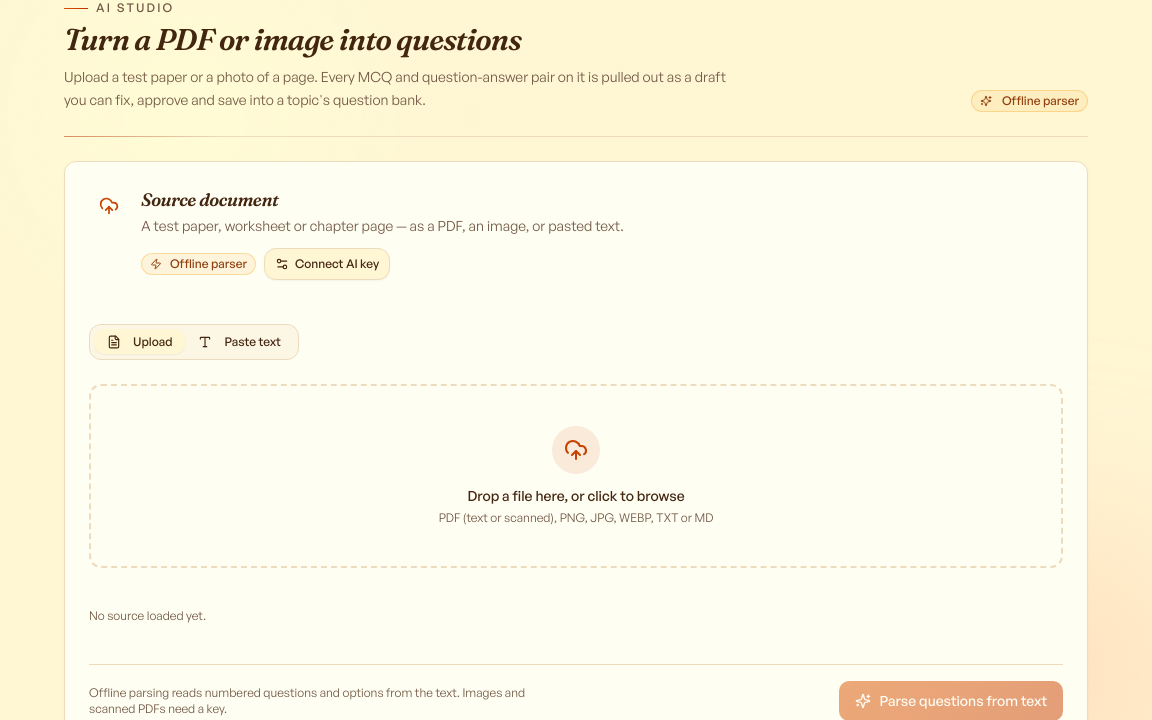
Test: AI Studio › parses pasted questions into a review queue without a key
Click the tab "Paste text" at (240, 342), box [186,329,294,354]
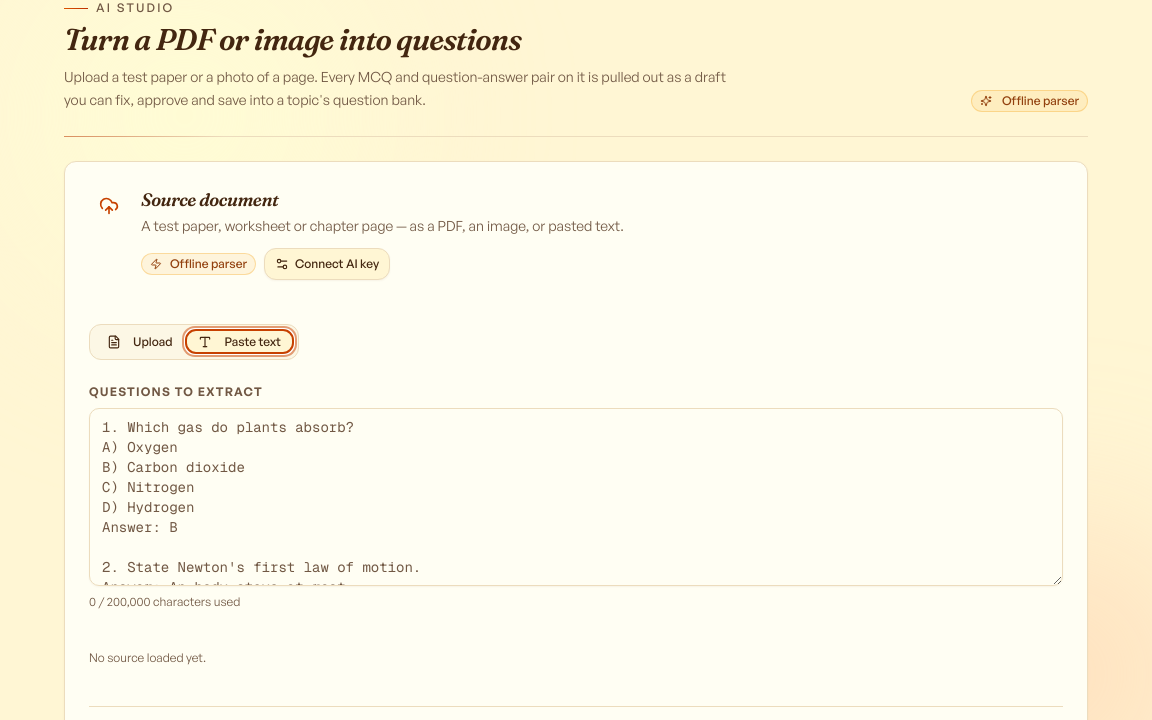
Replace the text in the text box labelled "Questions to extract" with "1. Which gas do plants absorb? A) Oxygen B) Carbon dioxide C) Nitrogen Answer: B 2. Define photosynthesis. Answer: The process plants use to make food from light." at (576, 496), box [89,408,1063,586]
(page scrolled)
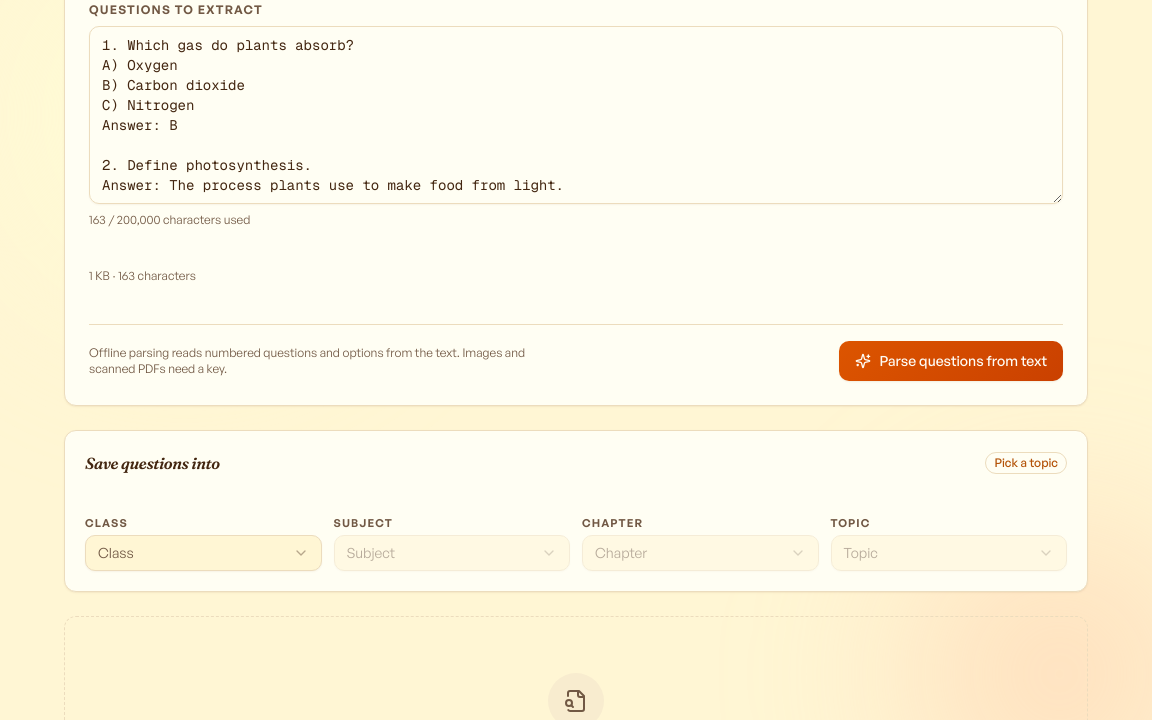
Click the button "Parse questions from text" at (951, 360), box [839,340,1063,380]
(page scrolled)
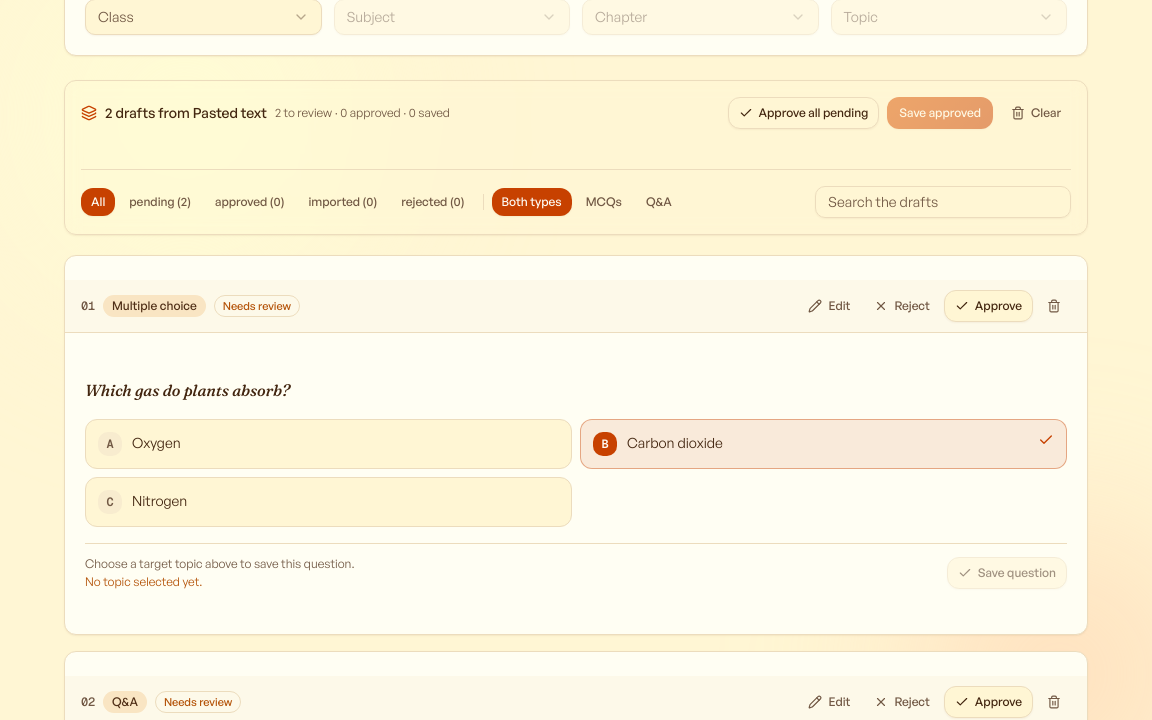
Expected: the text "Which gas do plants absorb?" is shown, [85,380,290,400]
Expected: the text "Carbon dioxide" is shown, [627,432,723,455]
Expected: the text "2 drafts from Pasted text" is shown, [105,103,267,123]
